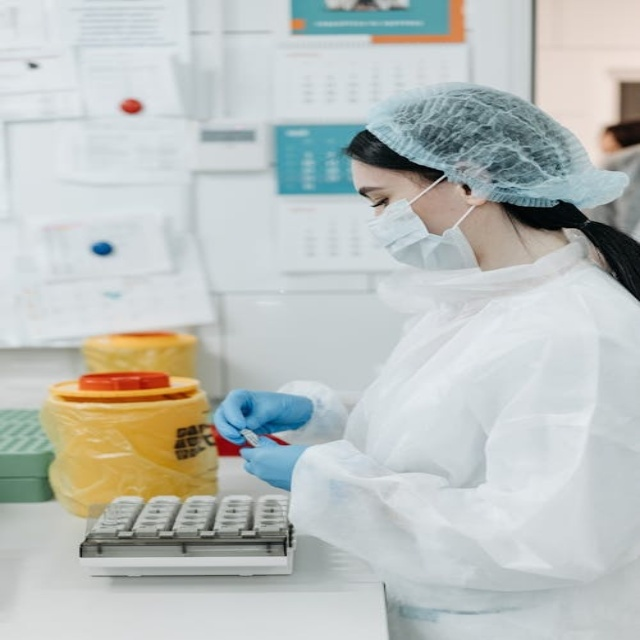Guantes: (213, 388, 317, 447), (240, 441, 311, 492)
Mascara: (366, 176, 482, 273)
Sin_gafas: (351, 178, 416, 212)
